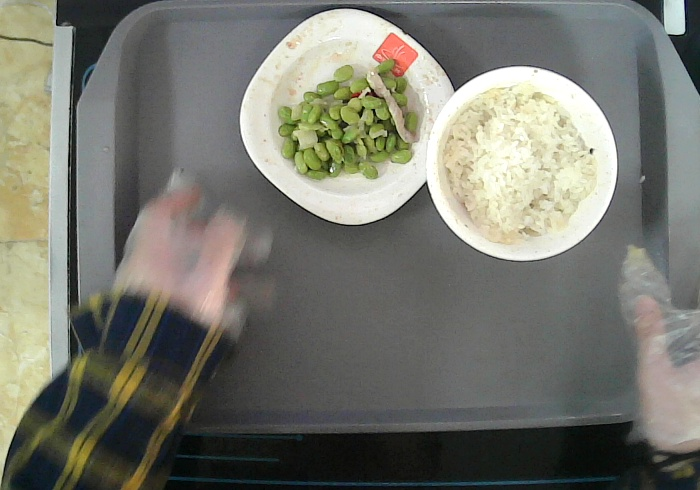SHKJ-Bai_Se_Si_Fang_Cai_Die: (239, 9, 455, 225)
SHKJ-Fan_Wan: (426, 65, 617, 261)
